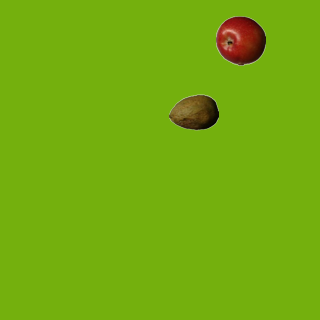Apple Braeburn: (215, 15, 265, 65)
Papaya: (168, 87, 218, 137)
